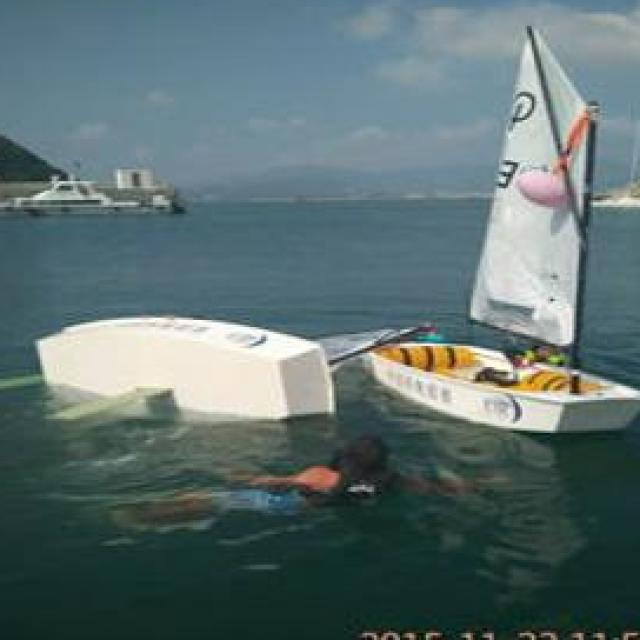houseboat: (6, 166, 173, 220)
sailboat: (372, 21, 640, 428), (32, 287, 432, 422)
